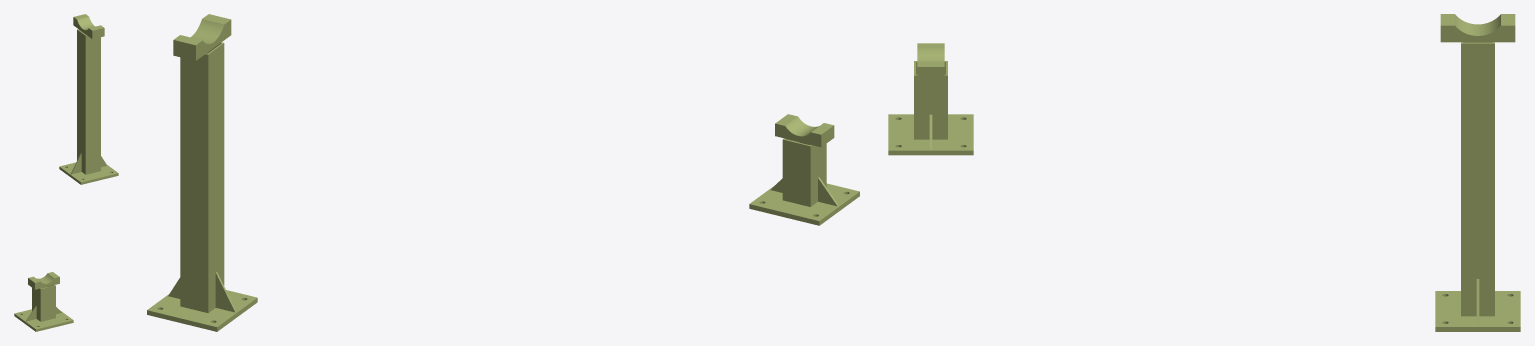
Rendered from step_28.glb.
The picture shows the model from 3 angles, left to right: view 1: azimuth 30°, elevation 25°; view 2: azimuth 150°, elevation 25°; view 3: azimuth 270°, elevation 25°; orthographic projection. The views are drawn at different scales.
Parts seen in each view (by area): view 1: part__pipe support SP-101, tall, part__pipe support SP-101, short; view 2: part__pipe support SP-101, tall, part__pipe support SP-101, short; view 3: part__pipe support SP-101, tall, part__pipe support SP-101, short.
Boxes of the visible parts, x1,y1,x2,y2 form: part__pipe support SP-101, tall: (59,14,118,184); part__pipe support SP-101, short: (14,272,73,331); part__pipe support SP-101, tall: (147,14,257,331); part__pipe support SP-101, short: (749,114,859,225); part__pipe support SP-101, tall: (1435,14,1520,331); part__pipe support SP-101, short: (888,43,973,155).
Bounding box in the file's own units: 1472 × 950 × 1850.
